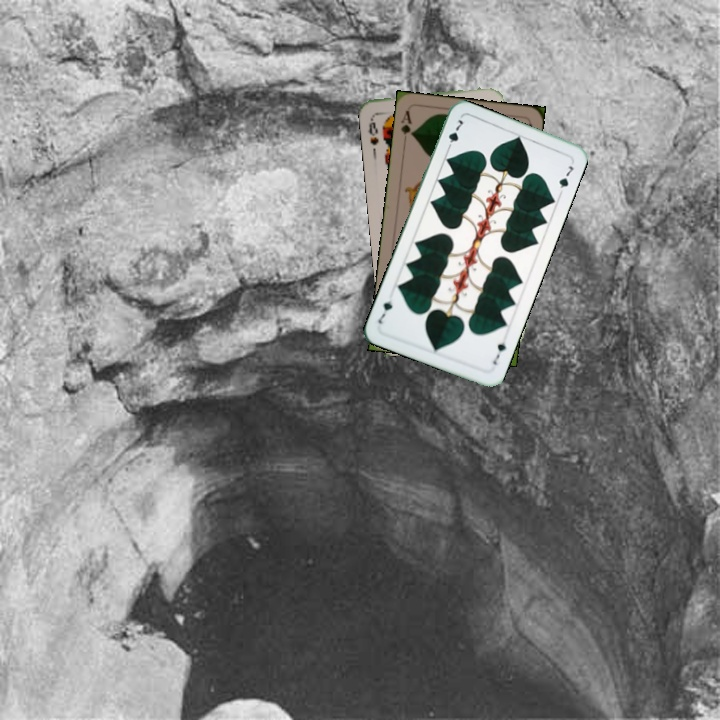G7: (443, 115, 466, 153), (489, 338, 509, 368)
GA: (397, 107, 416, 139)
S8: (364, 111, 381, 148)
